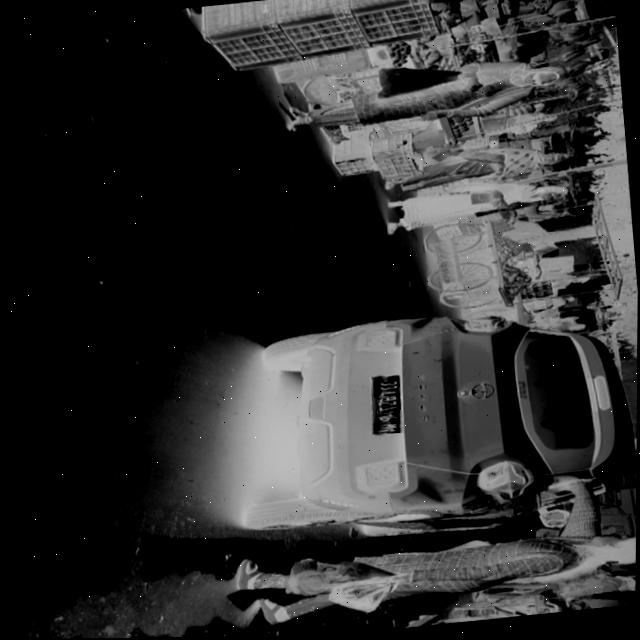0: (376, 411, 397, 419)
3: (377, 380, 397, 389), (375, 386, 397, 393)
4: (375, 376, 397, 385), (372, 391, 397, 398)
7: (377, 406, 397, 414)
B: (377, 397, 396, 404)
IND: (378, 427, 398, 435)
Indian_registered: (371, 378, 399, 434)
M: (374, 422, 399, 431)
P: (376, 417, 399, 424)
Z: (376, 400, 398, 409)
